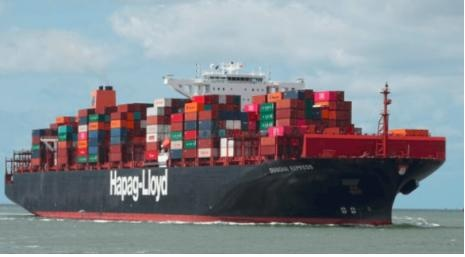Cargoship: (2, 57, 449, 222)
